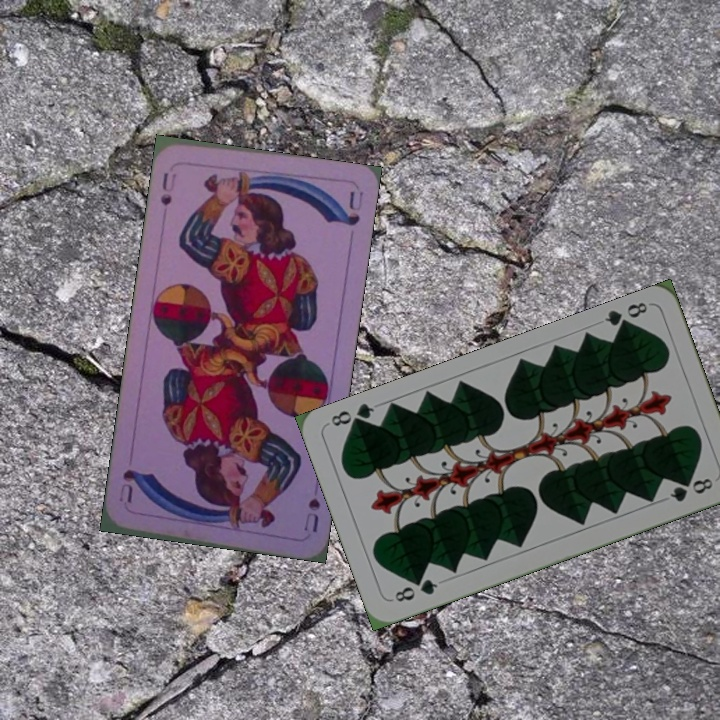G8: (600, 297, 650, 334), (390, 575, 441, 605)
SU: (299, 494, 323, 535), (156, 168, 174, 209)
